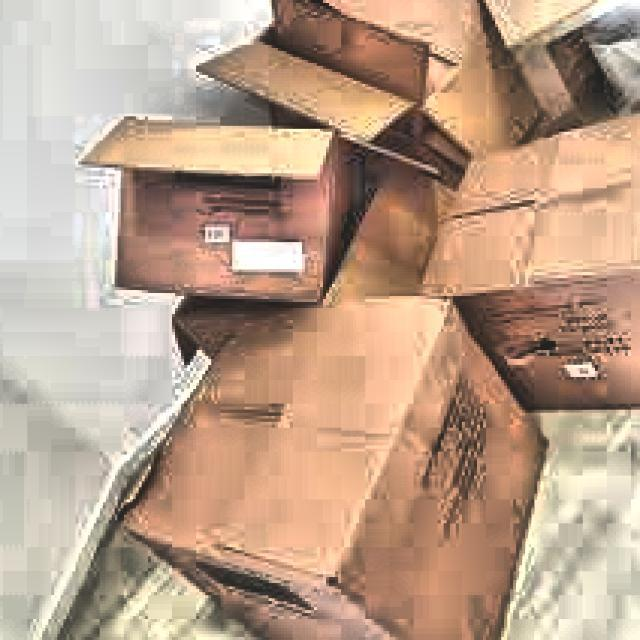cardboard: (82, 0, 640, 640)
